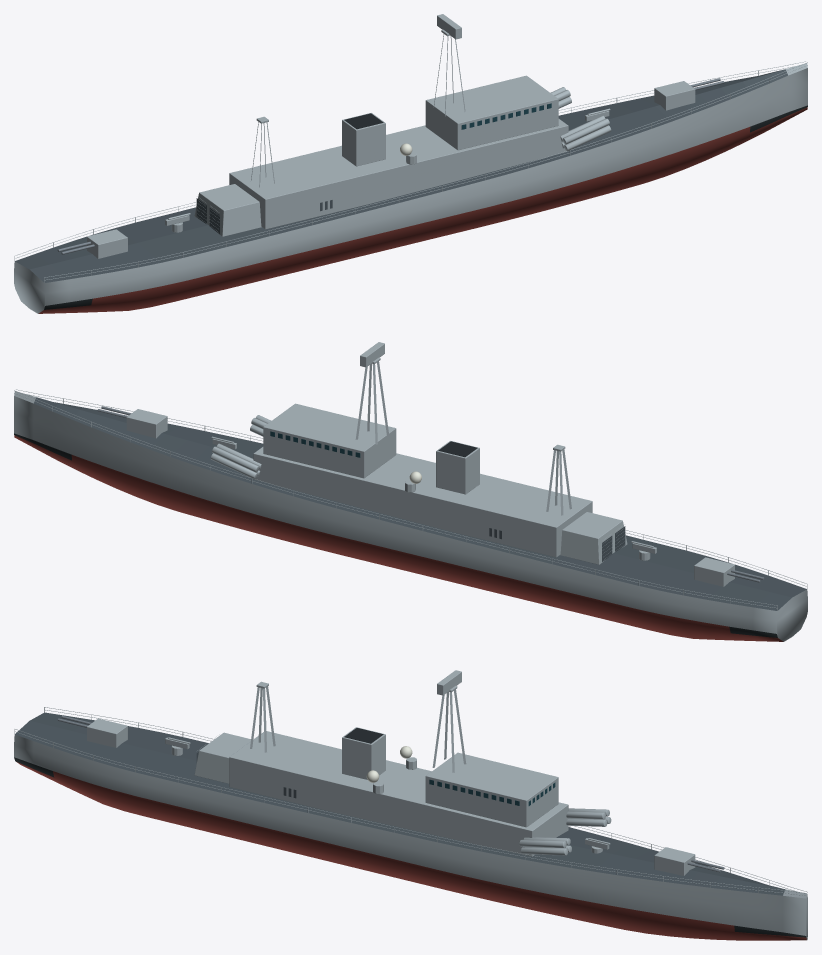
File: cw90_sovremenny.glb
The picture shows the model from 3 angles, top to bottom: view 1: azimuth 30°, elevation 25°; view 2: azimuth 150°, elevation 25°; view 3: azimuth 330°, elevation 25°; orthographic projection.
Parts seen in each view (by area): view 1: cw90_sovremenny; view 2: cw90_sovremenny; view 3: cw90_sovremenny.
Boxes of the visible parts, x1,y1,x2,y2 form: cw90_sovremenny: (14,14,807,313); cw90_sovremenny: (14,342,807,641); cw90_sovremenny: (14,670,807,940).
Bounding box in the file's own units: 10 × 2.48 × 1.12.
